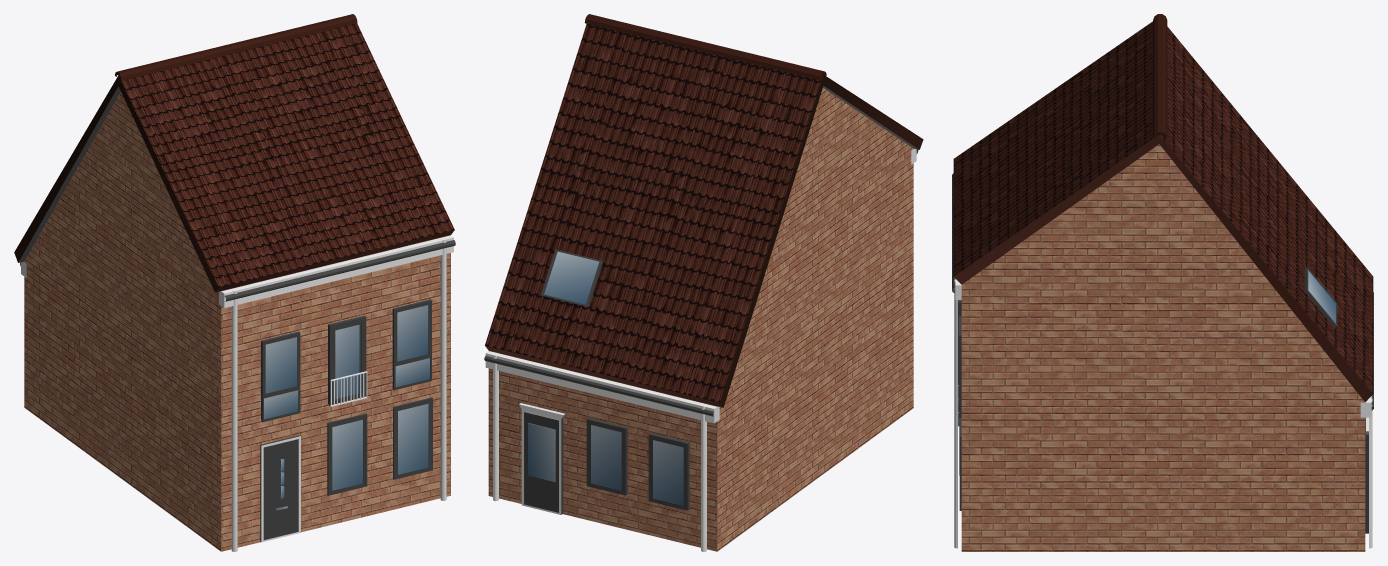
The model's file is It_Buthus_13.fbx.
3 renders of one model, left to right at view 1: azimuth 30°, elevation 25°; view 2: azimuth 150°, elevation 25°; view 3: azimuth 270°, elevation 25°, orthographic. The views are drawn at different scales.
Parts seen in each view (by area): view 1: It_Buthus_13; view 2: It_Buthus_13; view 3: It_Buthus_13.
Part boxes in pixels (left/top/right/bottom): It_Buthus_13: left=14, top=14, right=455, bottom=551; It_Buthus_13: left=484, top=14, right=923, bottom=551; It_Buthus_13: left=952, top=14, right=1373, bottom=551.
Size of the model in its own units: 6.22 by 10.31 by 9.38.
